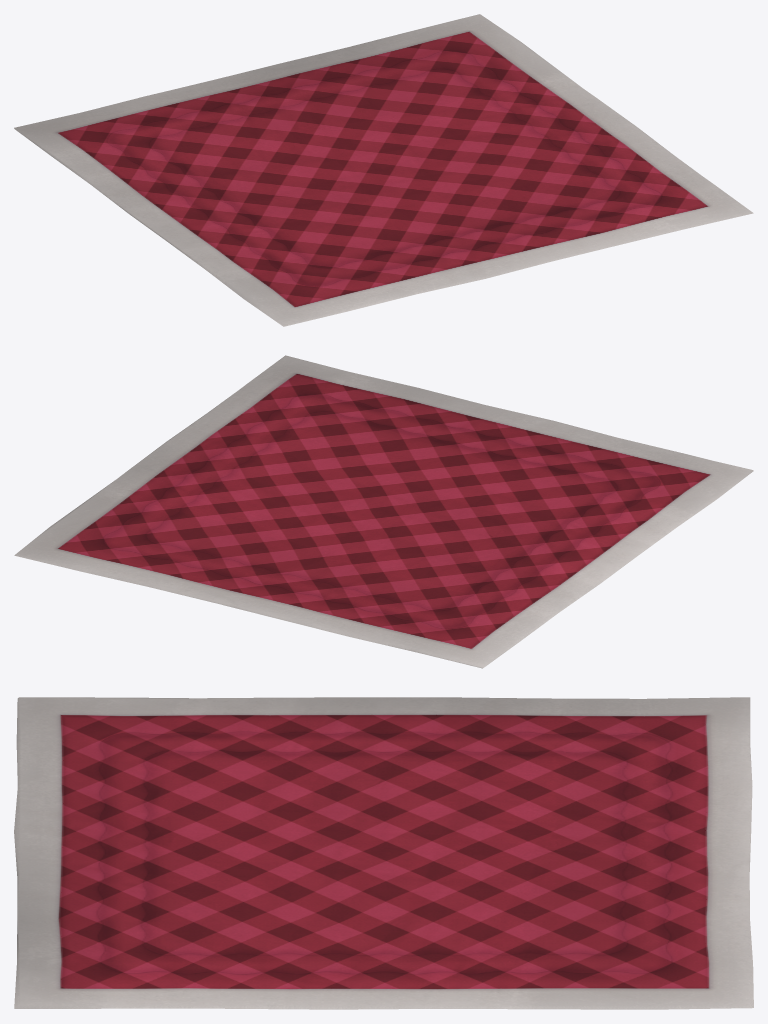
The model's file is kotatsu_sikihuton.fbx.
The picture shows the model from 3 angles, top to bottom: view 1: azimuth 30°, elevation 25°; view 2: azimuth 150°, elevation 25°; view 3: azimuth 270°, elevation 25°; orthographic projection. The views are drawn at different scales.
Visible parts, largest first — view 1: kotatsu_sikihuton; view 2: kotatsu_sikihuton; view 3: kotatsu_sikihuton.
Part boxes in pixels (<box>): kotatsu_sikihuton: <box>14,14,753,326</box>; kotatsu_sikihuton: <box>14,355,753,668</box>; kotatsu_sikihuton: <box>14,697,753,1009</box>.
Bounding box in the file's own units: 231 × 0.5808 × 231.
